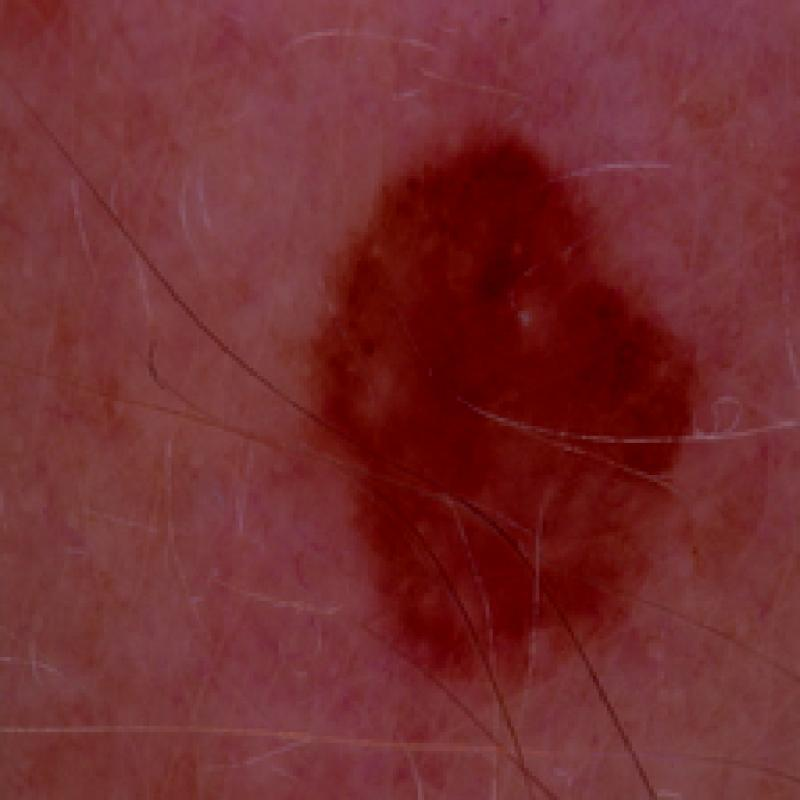benign: (288, 127, 710, 703)
